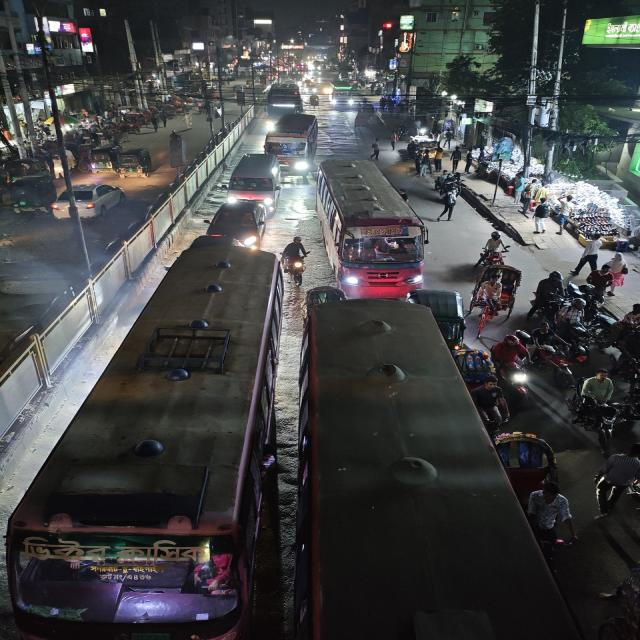bus: (6, 238, 354, 638), (255, 298, 540, 640), (315, 158, 431, 296), (263, 112, 319, 178), (264, 80, 305, 126)
car: (49, 180, 128, 222), (224, 151, 280, 206), (207, 200, 270, 248)
cng: (8, 173, 58, 213), (116, 145, 154, 180), (83, 144, 117, 176)
motorcycle: (565, 371, 621, 441), (532, 324, 576, 382), (493, 334, 533, 394), (280, 233, 310, 283), (434, 169, 469, 211)
pedestrian: (591, 450, 639, 524), (532, 269, 566, 319), (580, 370, 614, 411), (477, 230, 510, 268)
rickshaw: (498, 431, 562, 486), (469, 265, 521, 325)
